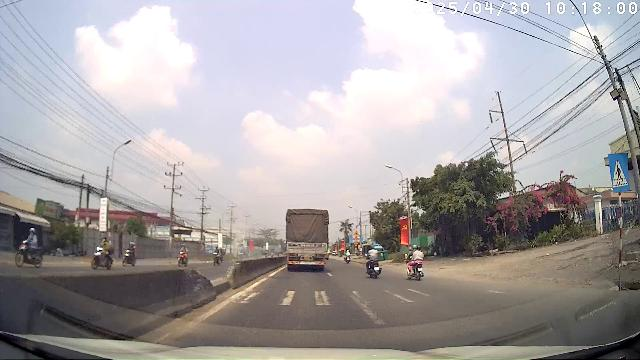423a-duong-nguoi-di-bo-sang-ngang-1: (609, 153, 630, 191)
